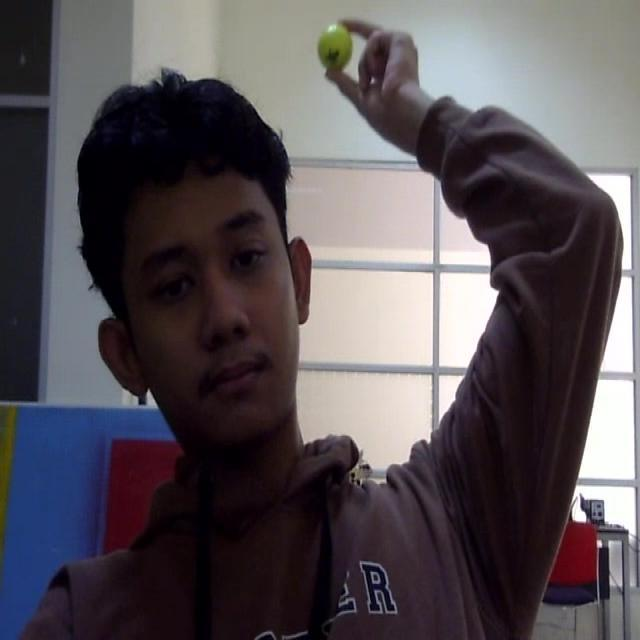golfball: (316, 18, 352, 76)
